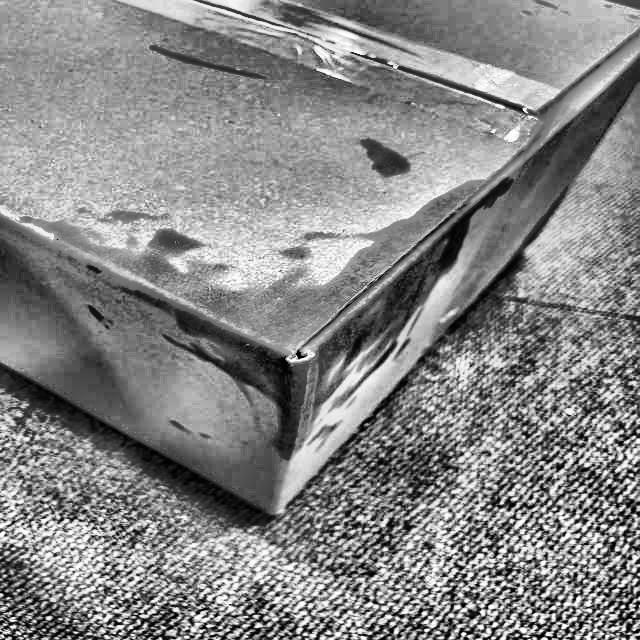box: (0, 0, 640, 538)
wet: (159, 137, 509, 447)
